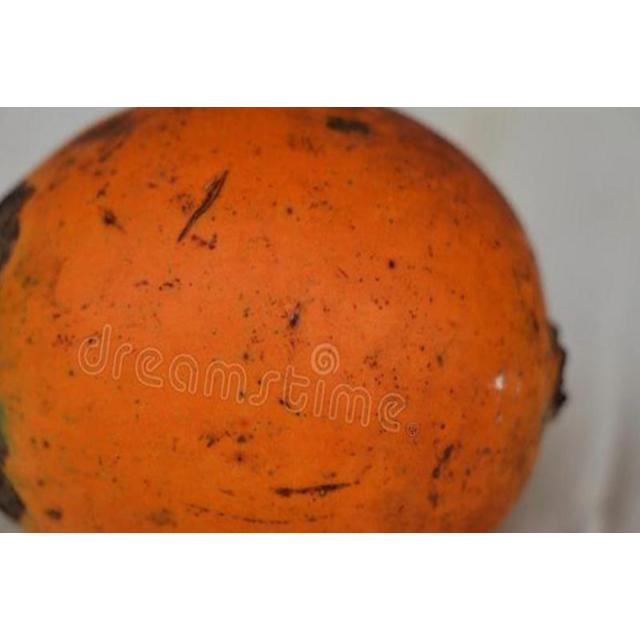good: (0, 107, 567, 533)
